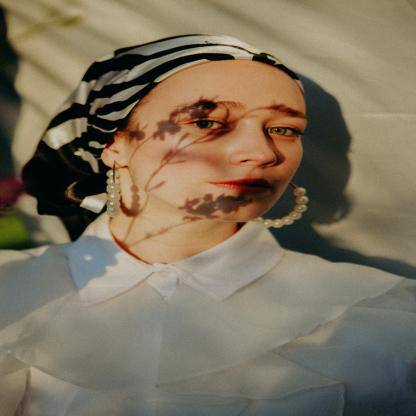Eye: (182, 116, 230, 132), (266, 122, 304, 140)
Mouth: (206, 177, 278, 194)
Nose: (230, 128, 276, 168)
